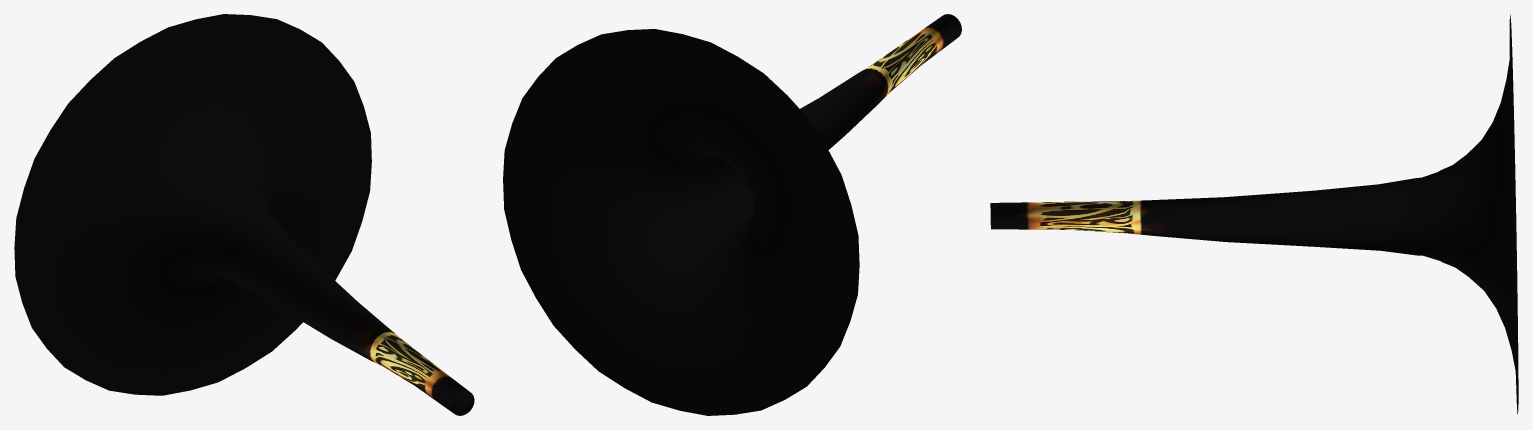
File: Sworl_ultimate.fbx
3 renders of one model, left to right at view 1: azimuth 30°, elevation 25°; view 2: azimuth 150°, elevation 25°; view 3: azimuth 270°, elevation 25°, orthographic. The views are drawn at different scales.
Visible parts, largest first — view 1: Sworl1; view 2: Sworl1; view 3: Sworl1.
Boxes of the visible parts, box(x1,y1,x2,y2) form: Sworl1: box(14, 14, 474, 415); Sworl1: box(503, 14, 961, 415); Sworl1: box(990, 14, 1518, 414).
Bounding box in the file's own units: 775 × 775 × 1022.
